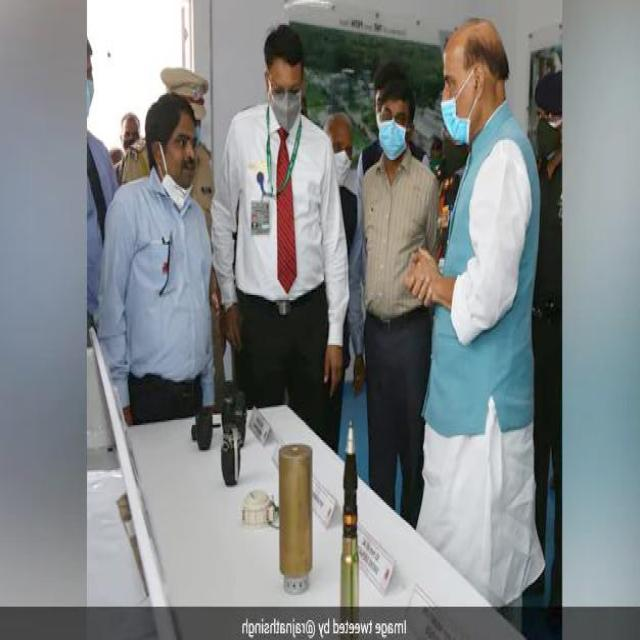grenade: (222, 423, 245, 489)
